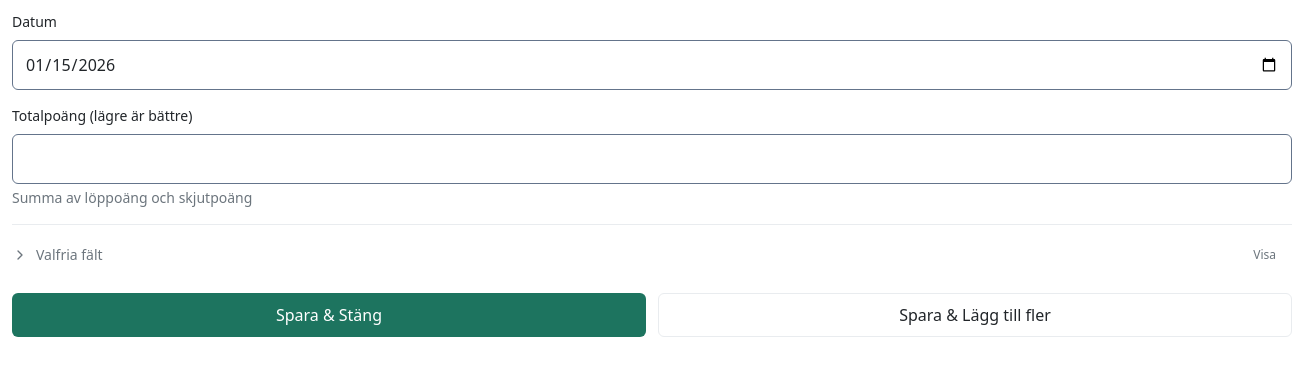
RunningShootingCourseForm › validation › shows error when date is empty
Clear the date field named "Datum för terränglopp": {"x": 652, "y": 65} [12,40,1292,90]
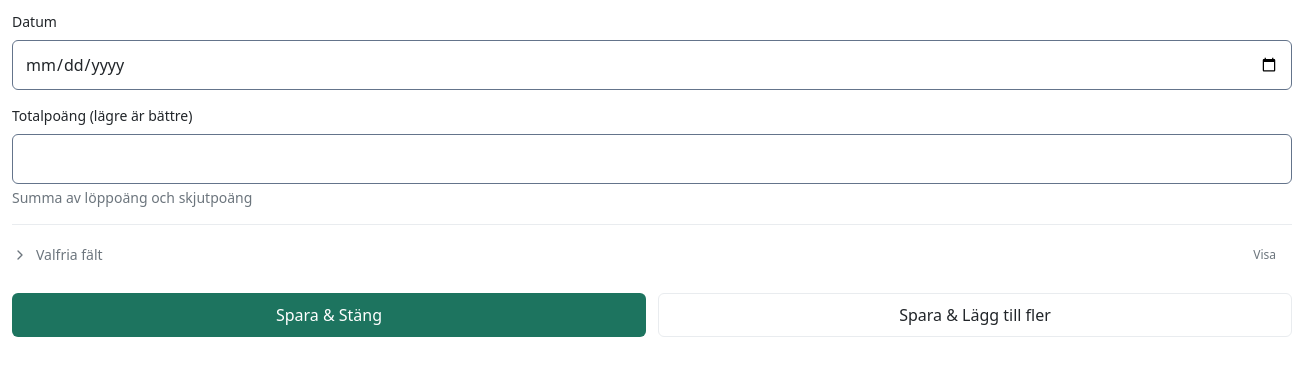
Click the button "Spara & Stäng": {"x": 329, "y": 315} [12,293,646,337]
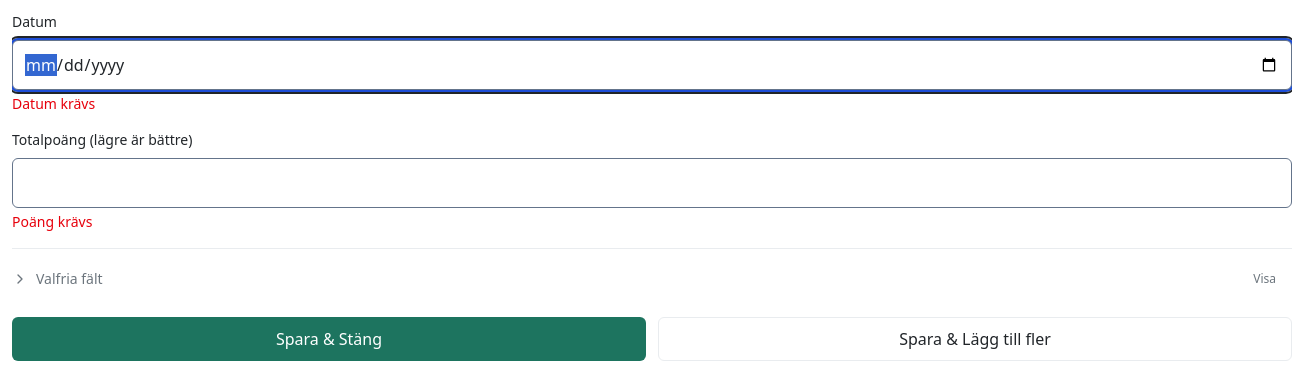
Expected: the text "Datum krävs" is shown, [12,94,95,113]
